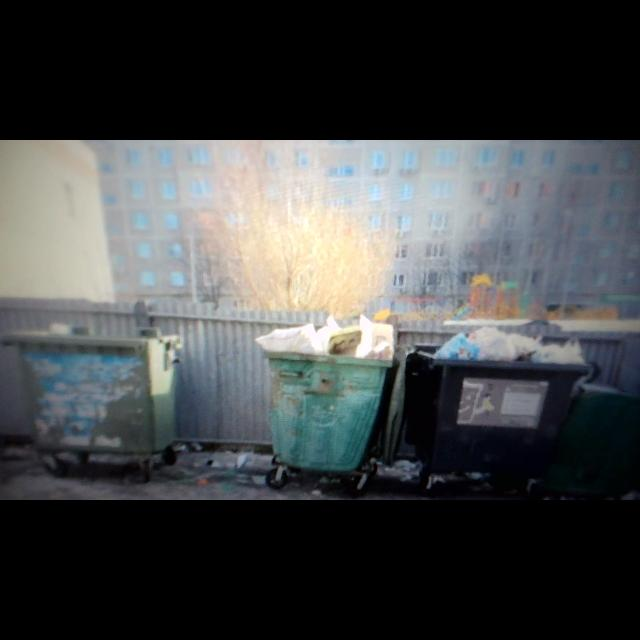Trash_Can_Empty: (2, 322, 182, 452)
Trash_Can_Full: (406, 326, 587, 469), (266, 316, 395, 471)
